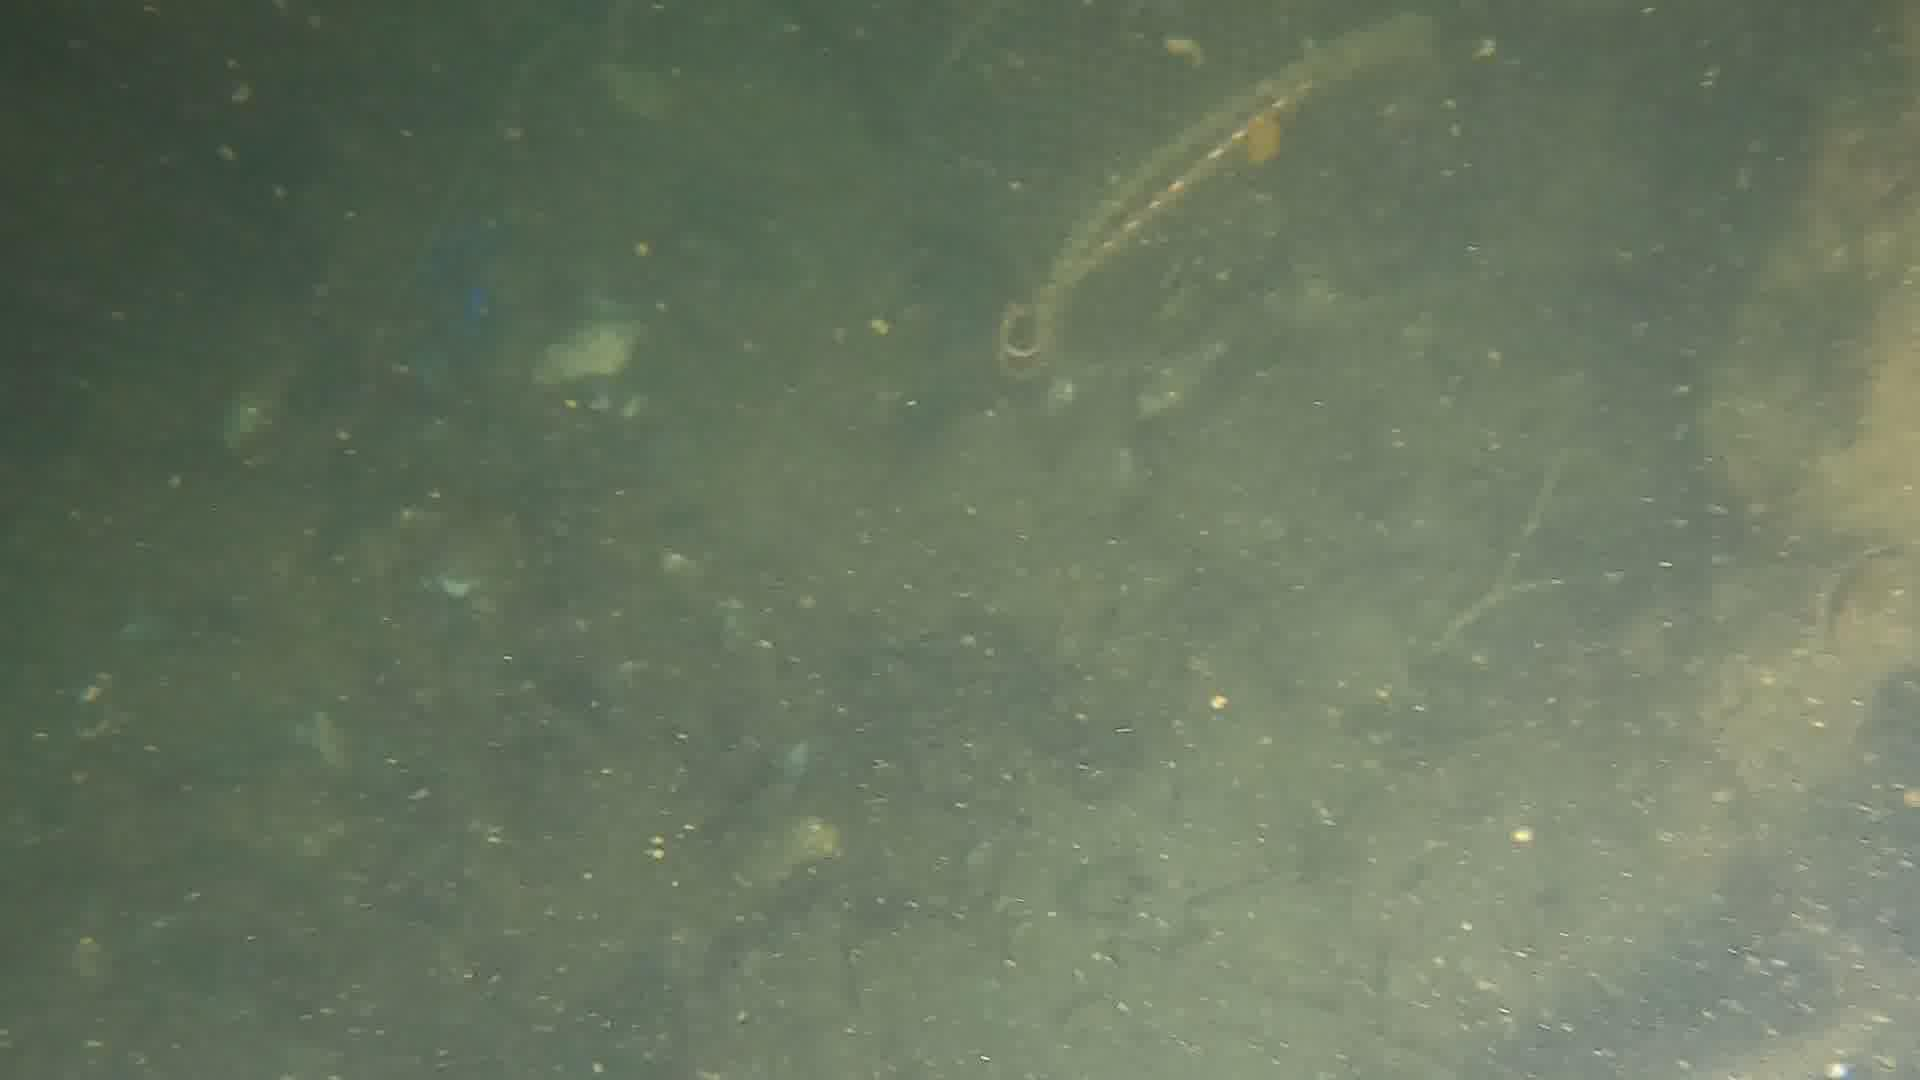circular fish trap: (825, 0, 1443, 394)
